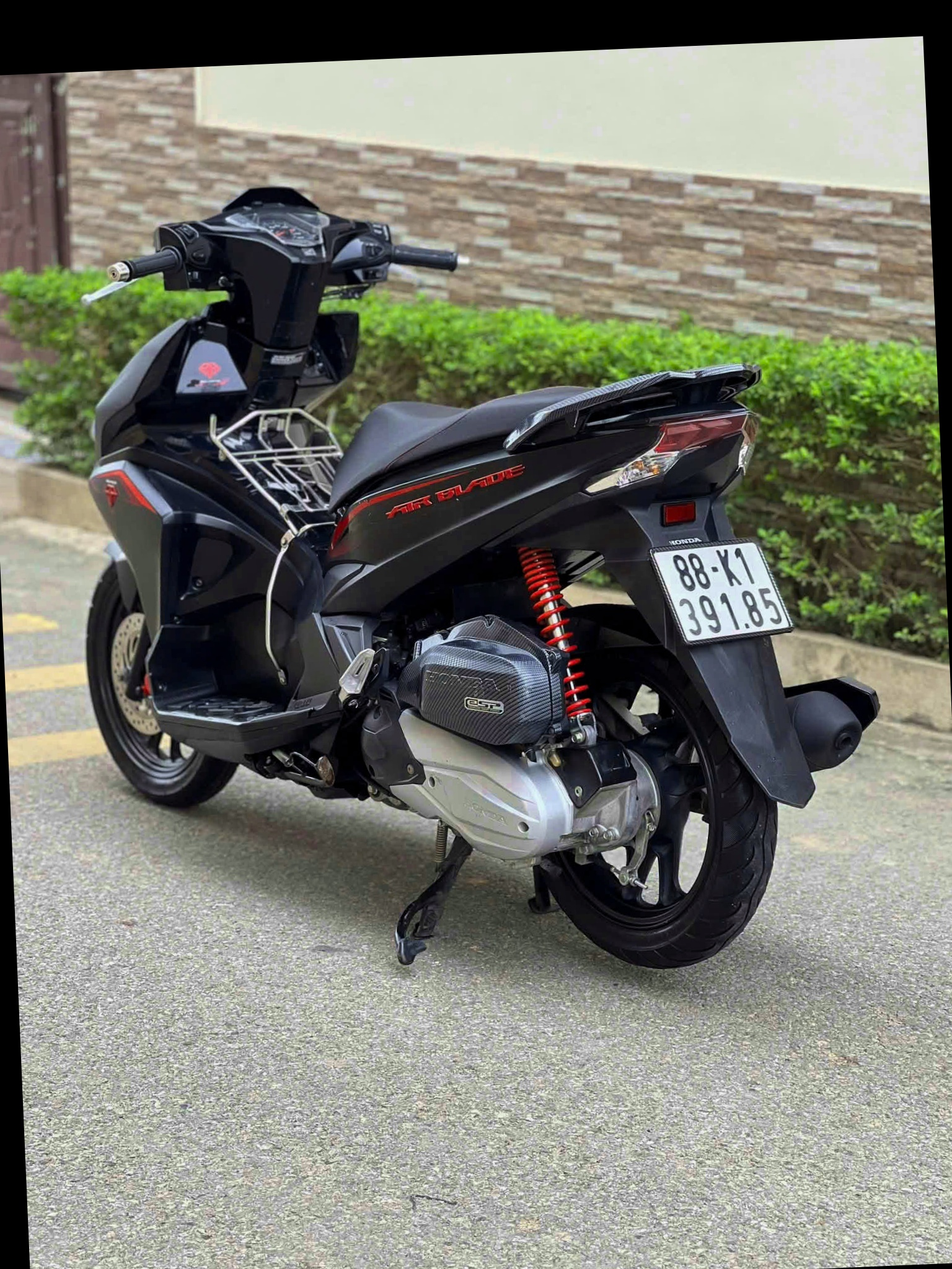Bien-so: (661, 503, 809, 614)
